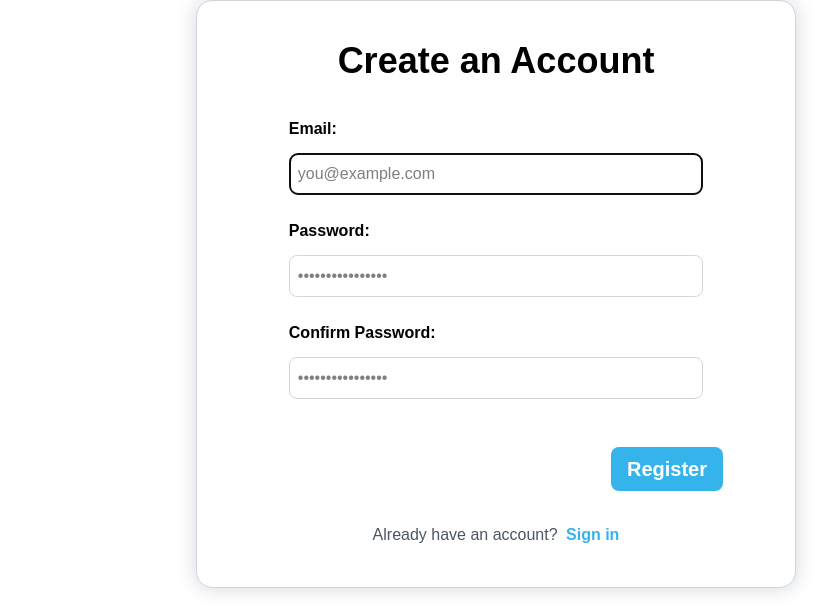
Test: RegisterPanel › shows the email required tooltip when register() rejects with no email input (empty string)
In the password field named "Password:*": (496, 276) 289,255 -> 703,297, type "Password123@"
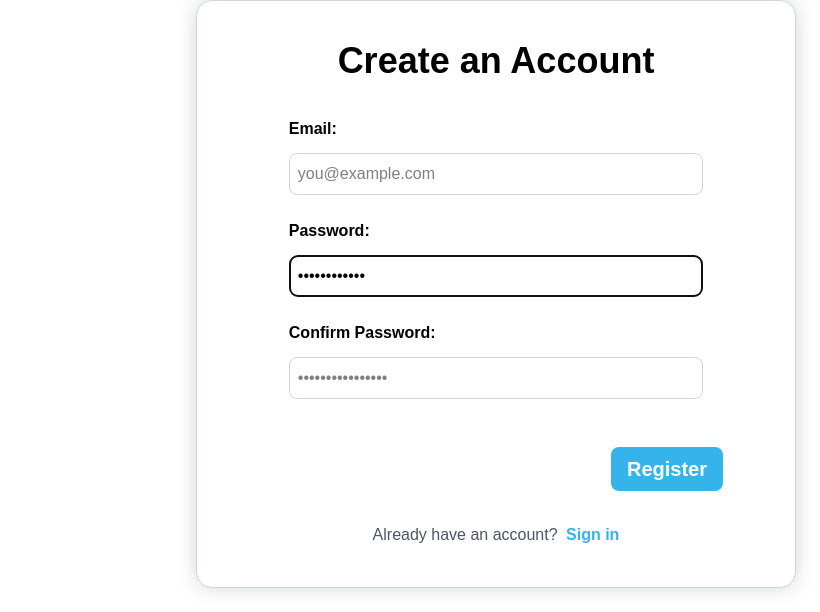
In the password field named "Confirm Password:*": (496, 378) 289,357 -> 703,399, type "Password123@"
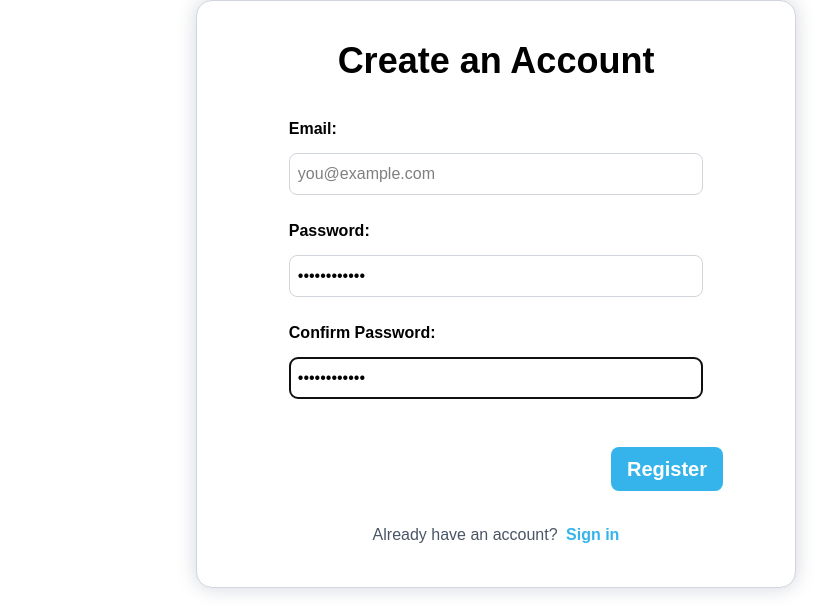
Click the button "Register": (667, 469) 611,447 -> 723,491
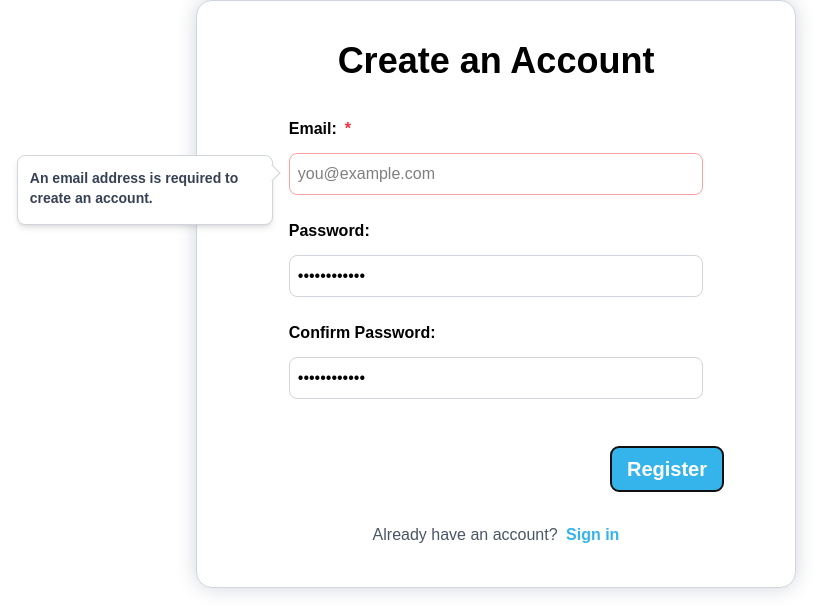
Expected: the text "An email address is required to create an account." is shown, 30,168 -> 260,208
